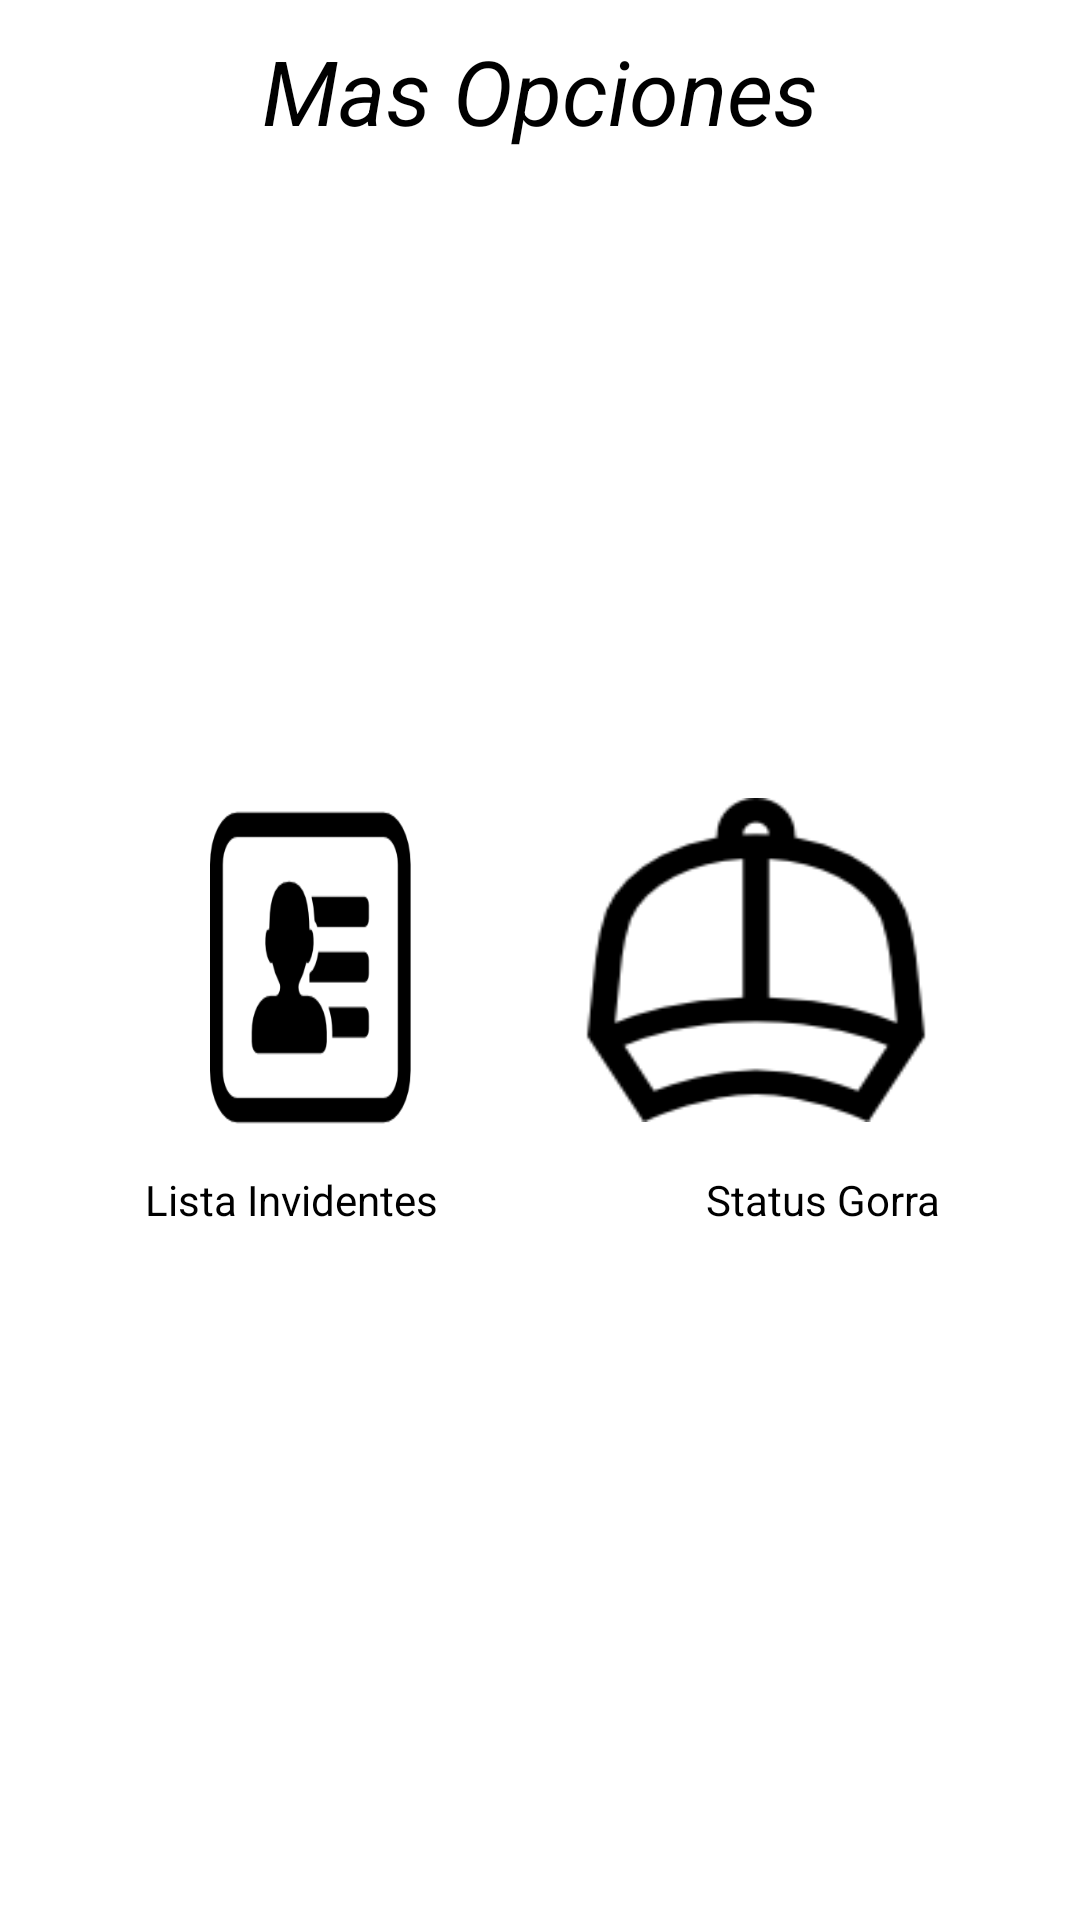

Named icons in this screenshot (1080×1920) and their centers, [x,y]:
usuarios: [310,967]
